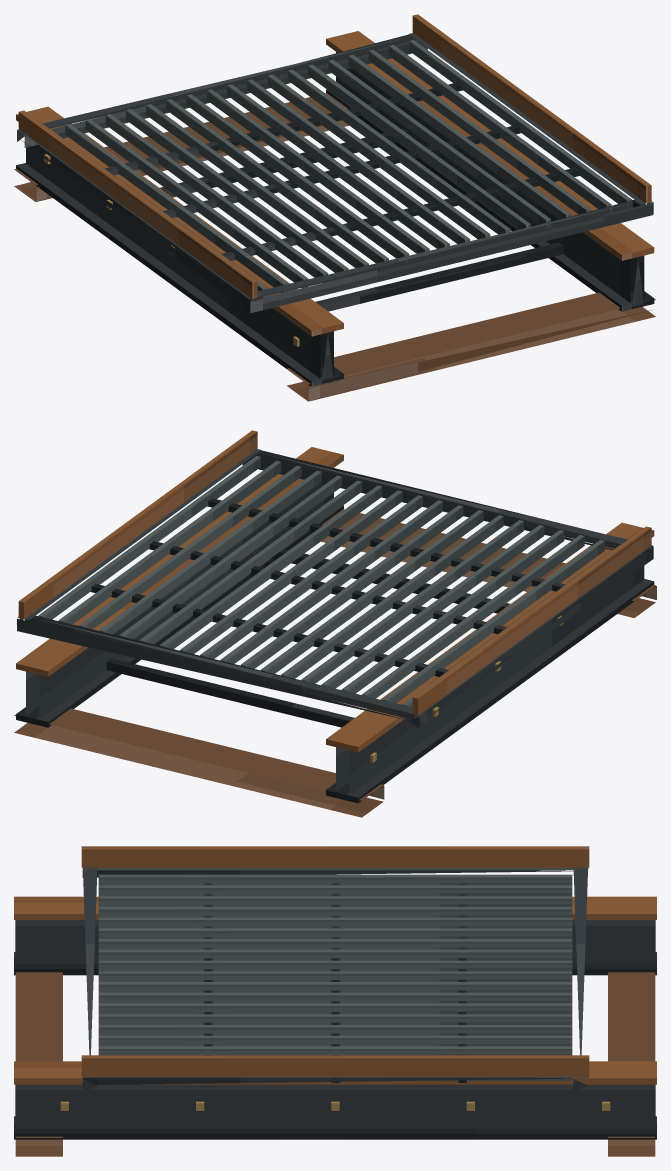
File: sewer_bridge.glb
3 views of the same model, one above another, from view 1: azimuth 30°, elevation 25°; view 2: azimuth 150°, elevation 25°; view 3: azimuth 270°, elevation 25° (orthographic). The views are drawn at different scales.
Parts seen in each view (by area): view 1: BearingS, GirderL, DeckFrameS, KickL, KickR, GirderR, DeckFrameN, FlangeLowL, FlangeR, FlangeL, Brace0, DeckSlat14 (+25 smaller); view 2: BearingN, GirderL, DeckFrameN, KickL, KickR, GirderR, FlangeLowL, DeckFrameS, FlangeR, FlangeL, Brace1, DeckSlat05 (+25 smaller); view 3: GirderR, KickL, KickR, FlangeLowR, GirderL, DeckSlat07, DeckSlat00, DeckSlat04, DeckSlat08, DeckSlat11, DeckSlat15, DeckSlat01 (+21 smaller).
Part boxes in pixels (x1=…): BearingS: x1=287, y1=292, x2=655, y2=401; GirderL: x1=26, y1=145, x2=333, y2=381; DeckFrameS: x1=245, y1=199, x2=653, y2=313; KickL: x1=18, y1=110, x2=257, y2=299; KickR: x1=412, y1=14, x2=651, y2=203; GirderR: x1=336, y1=52, x2=644, y2=306; DeckFrameN: x1=17, y1=35, x2=427, y2=147; FlangeLowL: x1=16, y1=163, x2=343, y2=386; FlangeR: x1=326, y1=31, x2=654, y2=260; FlangeL: x1=16, y1=106, x2=343, y2=336; Brace0: x1=315, y1=242, x2=563, y2=311; DeckSlat14: x1=328, y1=59, x2=550, y2=228; BearingN: x1=14, y1=708, x2=384, y2=817; GirderL: x1=336, y1=555, x2=644, y2=794; DeckFrameN: x1=17, y1=615, x2=427, y2=723; KickL: x1=412, y1=526, x2=651, y2=715; KickR: x1=18, y1=430, x2=257, y2=619; GirderR: x1=26, y1=483, x2=333, y2=718; FlangeLowL: x1=326, y1=579, x2=654, y2=803; DeckFrameS: x1=242, y1=450, x2=653, y2=556; FlangeR: x1=16, y1=447, x2=343, y2=676; FlangeL: x1=326, y1=522, x2=654, y2=752; Brace1: x1=106, y1=658, x2=354, y2=727; DeckSlat05: x1=301, y1=520, x2=523, y2=690; GirderR: x1=15, y1=1084, x2=655, y2=1128; KickL: x1=81, y1=846, x2=589, y2=867; KickR: x1=81, y1=1055, x2=589, y2=1076; FlangeLowR: x1=14, y1=1116, x2=656, y2=1139; GirderL: x1=15, y1=920, x2=655, y2=963; DeckSlat07: x1=98, y1=949, x2=572, y2=960; DeckSlat00: x1=98, y1=874, x2=572, y2=885; DeckSlat04: x1=98, y1=917, x2=572, y2=928; DeckSlat08: x1=98, y1=960, x2=572, y2=971; DeckSlat11: x1=98, y1=992, x2=572, y2=1003; DeckSlat15: x1=98, y1=1035, x2=572, y2=1046; DeckSlat01: x1=98, y1=885, x2=572, y2=896.
Bounding box in the file's own units: 3 × 0.73 × 3.8.
3 materials, 3 textured.
